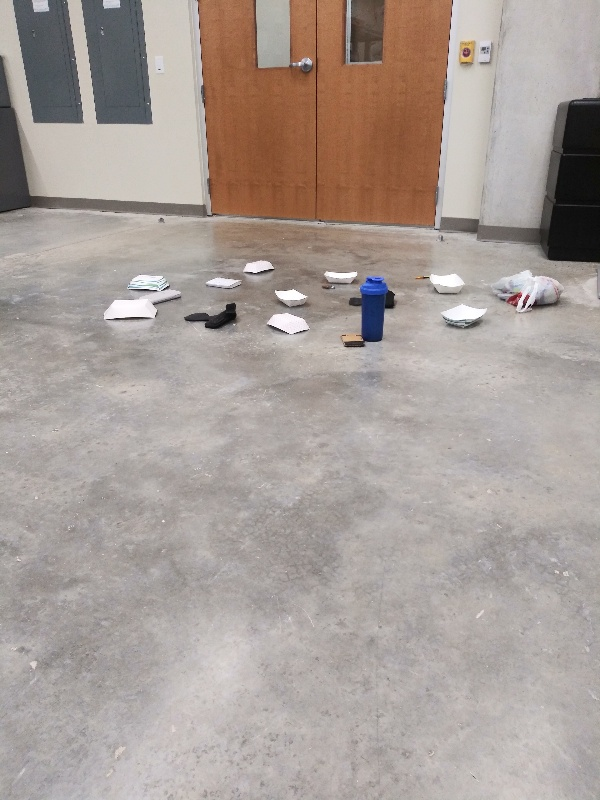plate: (97, 295, 160, 324), (435, 301, 494, 329), (262, 311, 314, 338), (424, 269, 468, 298), (123, 269, 172, 292), (270, 288, 313, 311), (319, 266, 363, 287), (240, 254, 278, 278)
